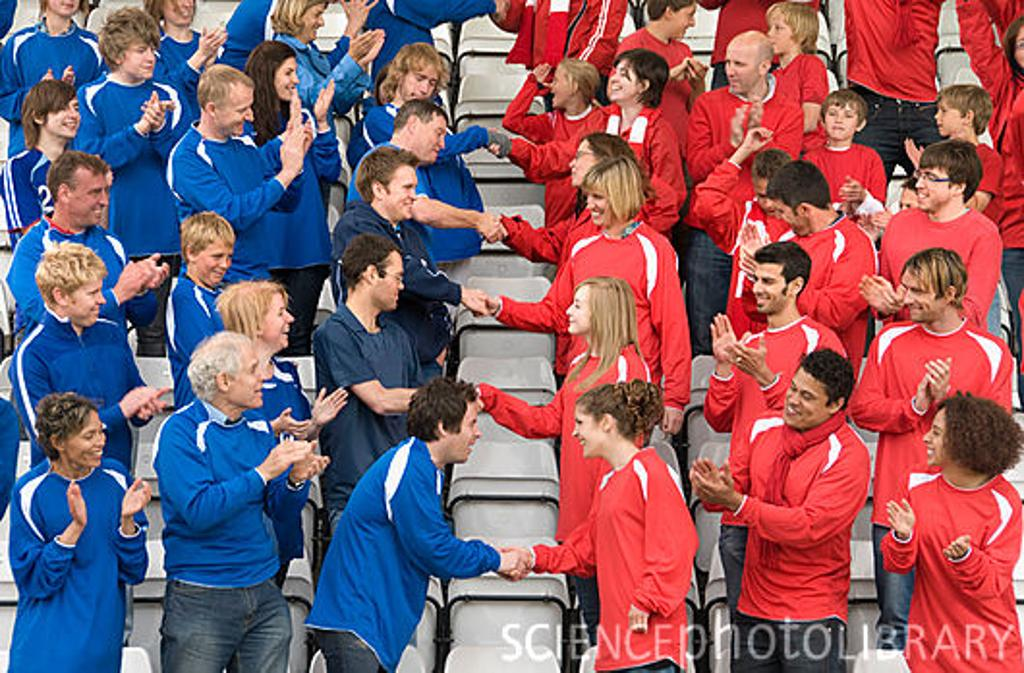face: (784, 368, 827, 425), (63, 409, 105, 467), (901, 267, 944, 321), (227, 346, 264, 408), (64, 271, 106, 324), (69, 170, 108, 223), (447, 399, 480, 459), (216, 82, 253, 135), (923, 408, 957, 465), (916, 159, 954, 210), (383, 163, 416, 219), (261, 292, 293, 348), (195, 235, 233, 282), (753, 264, 791, 311), (565, 285, 601, 334), (120, 30, 154, 78), (376, 250, 403, 309), (43, 93, 80, 136), (585, 176, 618, 224), (403, 64, 437, 109), (569, 140, 602, 186), (726, 46, 758, 93), (572, 402, 597, 457), (754, 174, 787, 214), (773, 196, 805, 236), (766, 13, 796, 54), (418, 116, 445, 161), (270, 57, 297, 101), (609, 58, 638, 98), (826, 101, 856, 138), (935, 95, 961, 134), (899, 188, 924, 228), (672, 0, 696, 38), (549, 64, 570, 106), (301, 5, 324, 39), (48, 0, 79, 14), (164, 9, 194, 23)
